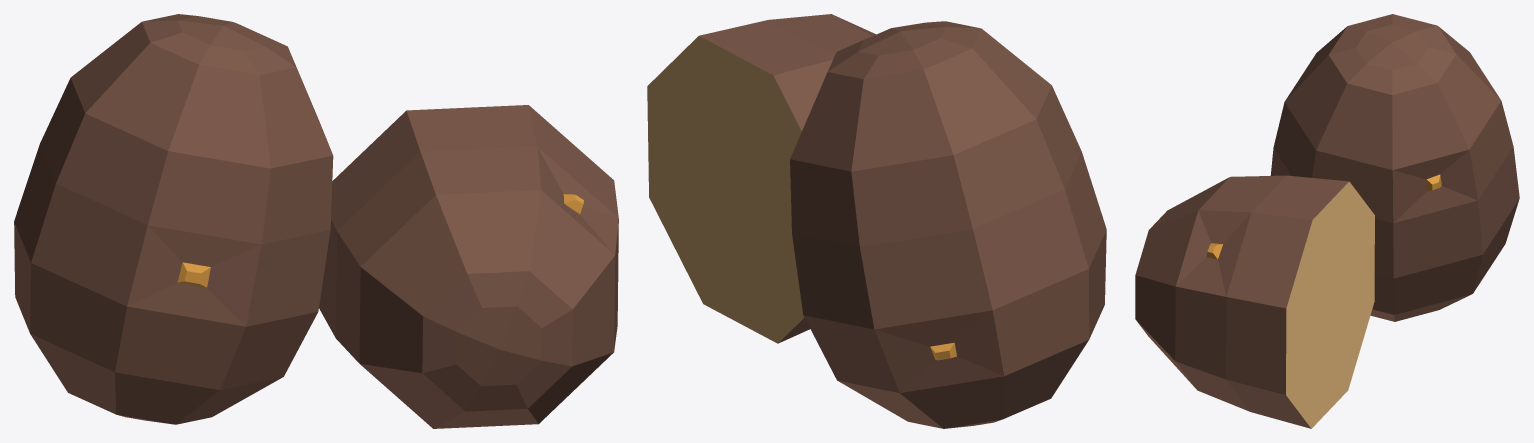
The model's file is SweetPotatoes.glb.
The picture shows the model from 3 angles, left to right: view 1: azimuth 30°, elevation 25°; view 2: azimuth 150°, elevation 25°; view 3: azimuth 270°, elevation 25°; orthographic projection. The views are drawn at different scales.
Parts seen in each view (by area): view 1: Potato_Circle.021; view 2: Potato_Circle.021; view 3: Potato_Circle.021.
Part boxes in pixels (<box>): Potato_Circle.021: <box>14,14,618,428</box>; Potato_Circle.021: <box>647,14,1106,428</box>; Potato_Circle.021: <box>1135,14,1519,428</box>.
Size of the model in its own units: 14.57 by 10.19 by 12.09.
